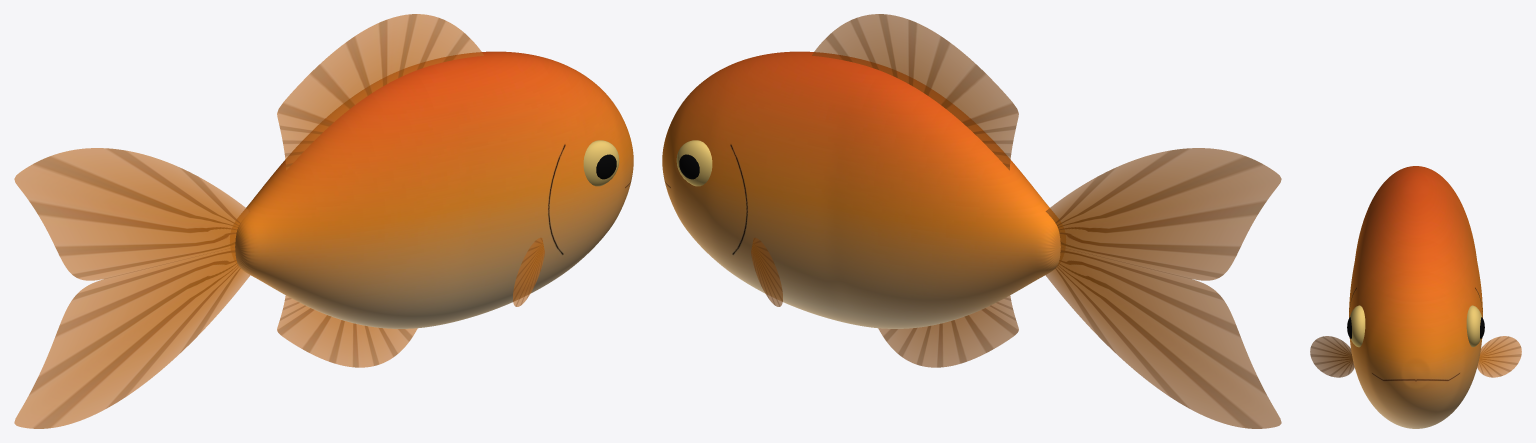
Rendered from gold.glb.
3 renders of one model, left to right at view 1: azimuth 30°, elevation 25°; view 2: azimuth 150°, elevation 25°; view 3: azimuth 270°, elevation 25°, orthographic. The views are drawn at different scales.
Visible parts, largest first — view 1: body, tail, dorsal, anal, pec-1, Sphere; view 2: body, tail, dorsal, anal, pec1, Sphere.002; view 3: body, pec-1, pec1, Sphere, Sphere.002.
Part boxes in pixels (box(x1,y1,x2,y2)): body: box(235, 51, 633, 328); tail: box(14, 148, 250, 428); dorsal: box(277, 14, 483, 170); anal: box(277, 296, 417, 367); pec-1: box(513, 237, 544, 306); Sphere: box(583, 140, 619, 186); body: box(662, 51, 1060, 328); tail: box(1045, 148, 1281, 428); dorsal: box(812, 14, 1018, 170); anal: box(878, 296, 1018, 367); pec1: box(751, 237, 782, 306); Sphere.002: box(676, 140, 712, 186); body: box(1349, 166, 1482, 428); pec-1: box(1310, 336, 1354, 377); pec1: box(1477, 336, 1521, 377); Sphere: box(1350, 305, 1365, 347); Sphere.002: box(1466, 305, 1481, 347).
Size of the model in its own units: 1.57 by 0.8434 by 0.5509.
5 materials, 3 textured.
